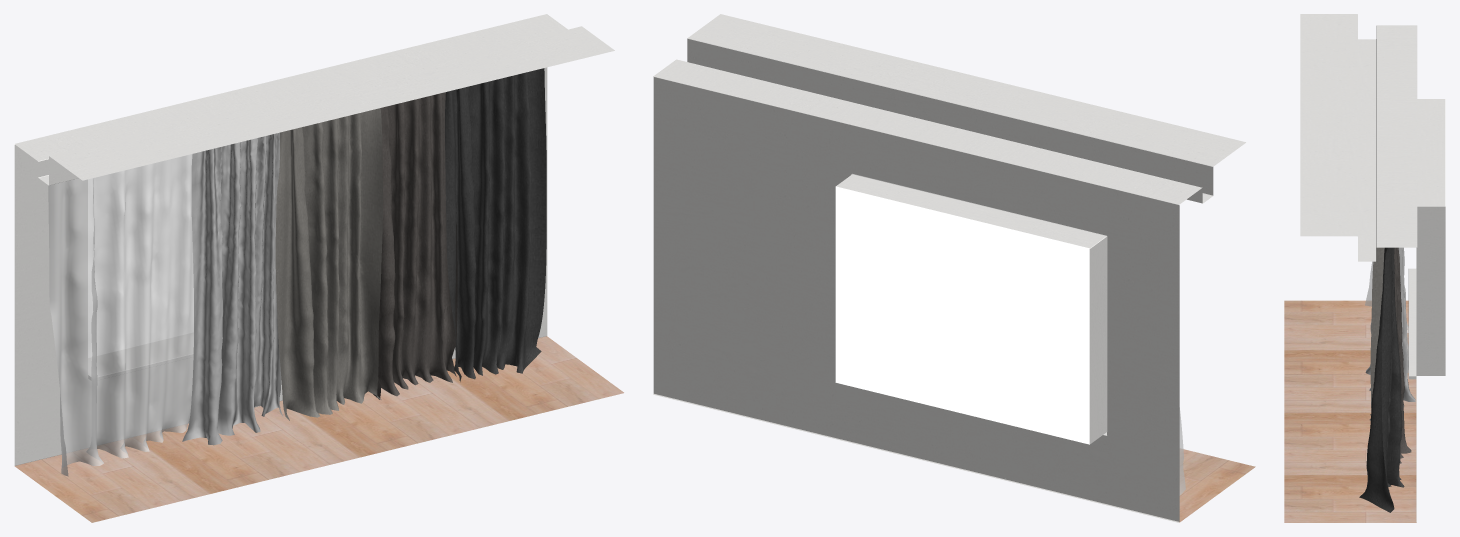
3 views of the same model, side by side, from view 1: azimuth 30°, elevation 25°; view 2: azimuth 150°, elevation 25°; view 3: azimuth 270°, elevation 25° (orthographic). The views are drawn at different scales.
Parts seen in each view (by area): view 1: Wall, Curtains, Tulle; view 2: Wall; view 3: Wall, Curtains, Tulle.
Part boxes in pixels (x1=…): Wall: x1=14, y1=14, x2=623, y2=522; Curtains: x1=182, y1=68, x2=546, y2=445; Tulle: x1=48, y1=154, x2=193, y2=476; Wall: x1=653, y1=14, x2=1255, y2=522; Wall: x1=1284, y1=14, x2=1445, y2=522; Curtains: x1=1359, y1=247, x2=1415, y2=512; Tulle: x1=1365, y1=247, x2=1408, y2=372.
Size of the model in its own units: 431 by 259 by 132.
3 materials, 2 textured.
